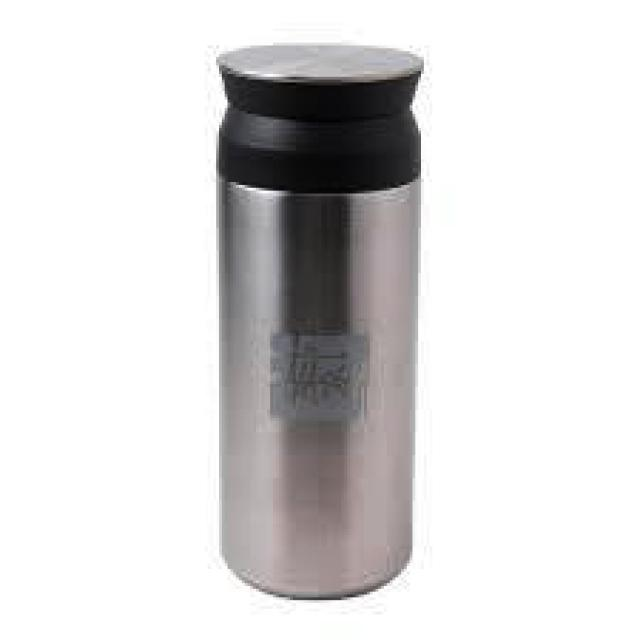bottle: (205, 34, 435, 606)
